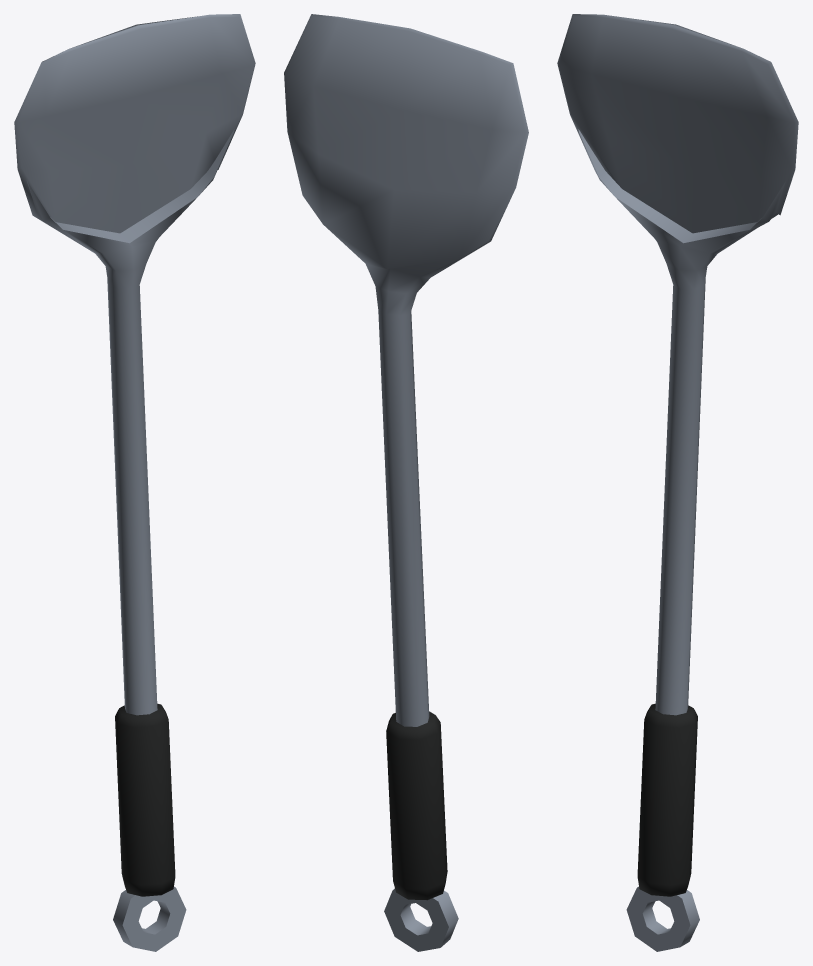
The model's file is scene_c37vmPQGGy.glb.
3 renders of one model, left to right at view 1: azimuth 30°, elevation 25°; view 2: azimuth 150°, elevation 25°; view 3: azimuth 330°, elevation 25°, orthographic.
Visible parts, largest first — view 1: cutensils_asian_turner_Cylinder.024; view 2: cutensils_asian_turner_Cylinder.024; view 3: cutensils_asian_turner_Cylinder.024.
Boxes of the visible parts, x1,y1,x2,y2 form: cutensils_asian_turner_Cylinder.024: (14,14,255,951); cutensils_asian_turner_Cylinder.024: (284,14,528,951); cutensils_asian_turner_Cylinder.024: (557,14,798,951).
Size of the model in its own units: 2.65 by 9.59 by 0.8983.
Materials: 1 (1 with a texture image).
